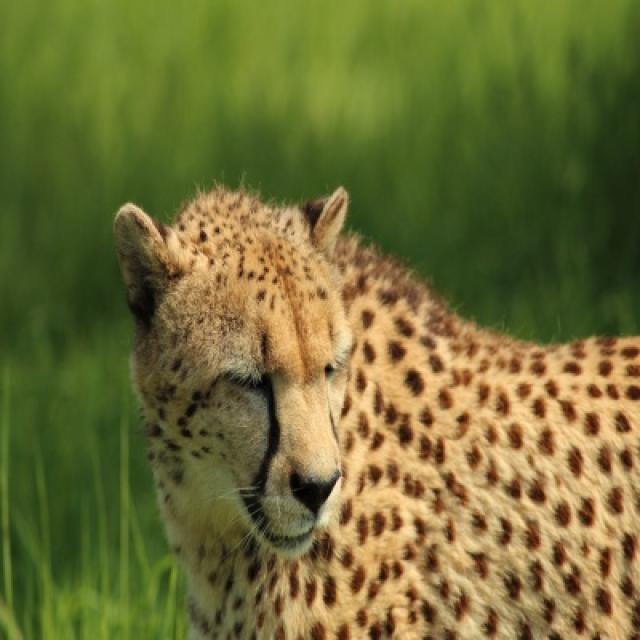Cheetah: (115, 187, 638, 638)
